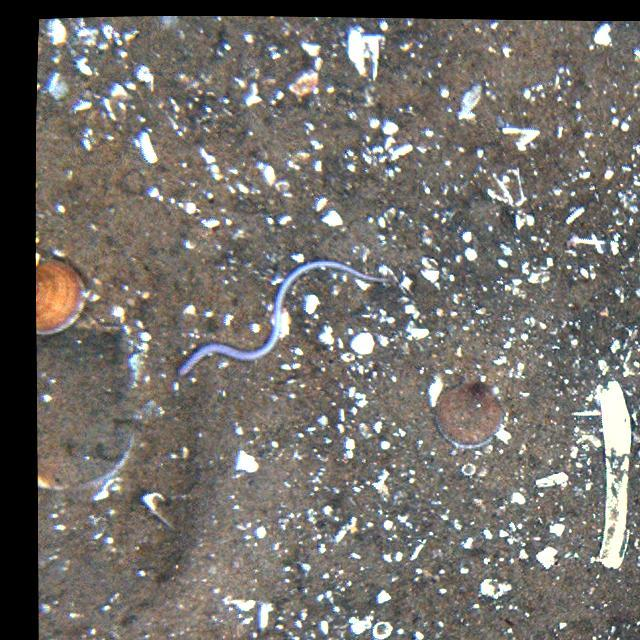scallop: (34, 253, 88, 336)
